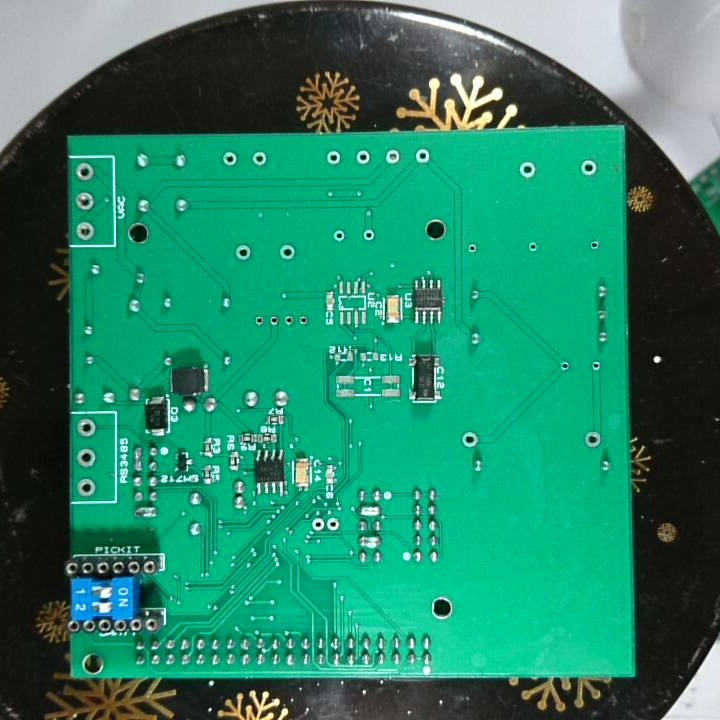F: (75, 446, 98, 472), (74, 417, 99, 440), (74, 189, 96, 214), (74, 160, 96, 184), (233, 240, 254, 265), (74, 219, 96, 242), (75, 476, 97, 499), (579, 156, 599, 181), (381, 146, 403, 167), (517, 159, 539, 180), (249, 149, 271, 169), (275, 242, 297, 262), (219, 149, 239, 170), (324, 148, 345, 168), (582, 429, 602, 450), (412, 146, 431, 166), (460, 429, 479, 449), (329, 226, 348, 245), (585, 357, 603, 377), (325, 514, 341, 536), (296, 310, 310, 335), (524, 238, 542, 257), (354, 147, 371, 167), (308, 515, 325, 535), (267, 311, 282, 332), (281, 312, 296, 332), (251, 312, 268, 329), (464, 240, 480, 258), (557, 357, 572, 376), (587, 238, 603, 255), (361, 226, 376, 244)
P: (356, 534, 386, 551), (130, 442, 145, 475), (131, 504, 159, 521), (355, 503, 383, 519)
